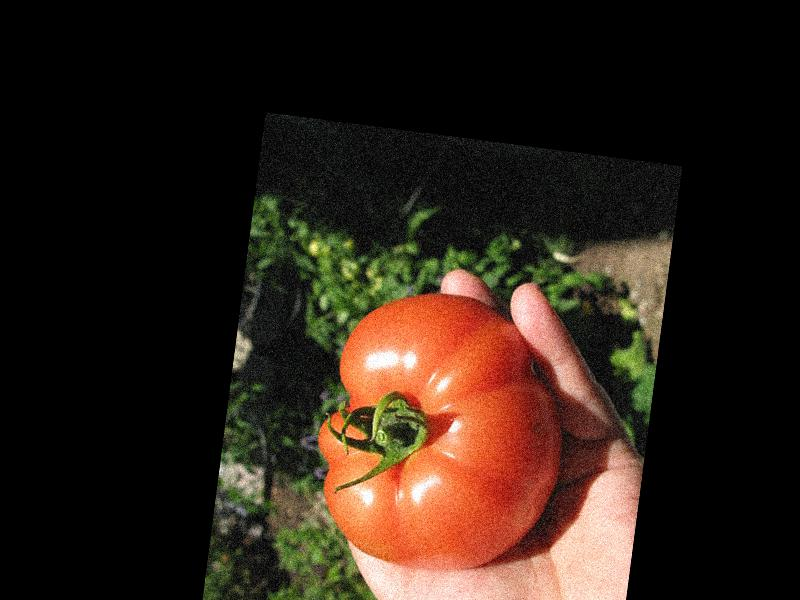Tomato: (303, 279, 575, 582)
